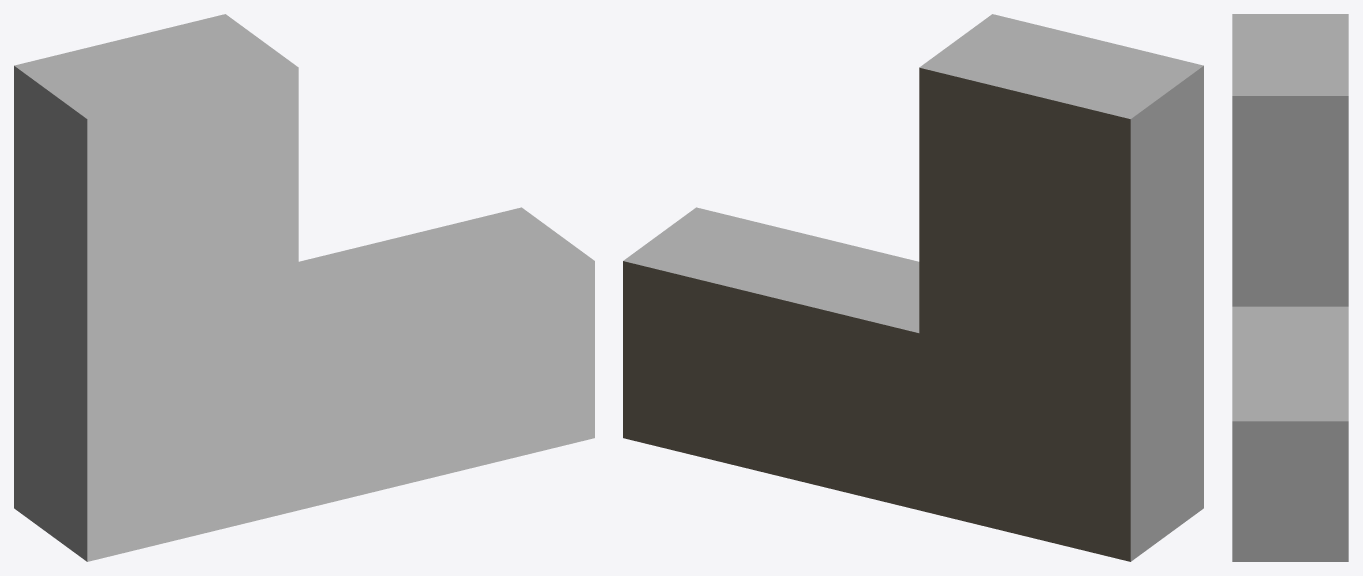
The model's file is borish_concave_L_room_conforming.obj.
The picture shows the model from 3 angles, left to right: view 1: azimuth 30°, elevation 25°; view 2: azimuth 150°, elevation 25°; view 3: azimuth 270°, elevation 25°; orthographic projection. The views are drawn at different scales.
Visible parts, largest first — view 1: Ceiling_NorthWest, Ceiling_SouthEast, Ceiling_SouthWest, West_Wall_North, Notch_South_Wall, North_Wall, West_Wall_South; view 2: Floor_NorthWest, Floor_SouthEast, Floor_SouthWest, West_Wall_North, Notch_South_Wall, North_Wall, West_Wall_South; view 3: Notch_East_Wall, East_Wall, Notch_South_Wall, North_Wall.
Part boxes in pixels (bbox=[...]): Ceiling_NorthWest: bbox=[87, 67, 298, 384]; Ceiling_SouthEast: bbox=[298, 261, 594, 510]; Ceiling_SouthWest: bbox=[87, 333, 298, 561]; West_Wall_North: bbox=[14, 66, 87, 384]; Notch_South_Wall: bbox=[298, 207, 594, 332]; North_Wall: bbox=[14, 14, 298, 118]; West_Wall_South: bbox=[14, 331, 87, 561]; Floor_NorthWest: bbox=[919, 67, 1130, 384]; Floor_SouthEast: bbox=[623, 261, 919, 510]; Floor_SouthWest: bbox=[919, 333, 1130, 561]; West_Wall_North: bbox=[1130, 66, 1203, 384]; Notch_South_Wall: bbox=[623, 207, 919, 332]; North_Wall: bbox=[919, 14, 1203, 118]; West_Wall_South: bbox=[1130, 331, 1203, 561]; Notch_East_Wall: bbox=[1232, 96, 1348, 306]; East_Wall: bbox=[1232, 421, 1348, 561]; Notch_South_Wall: bbox=[1232, 306, 1348, 421]; North_Wall: bbox=[1232, 14, 1348, 95].
Bounding box in the file's own units: 12 × 10 × 3.
